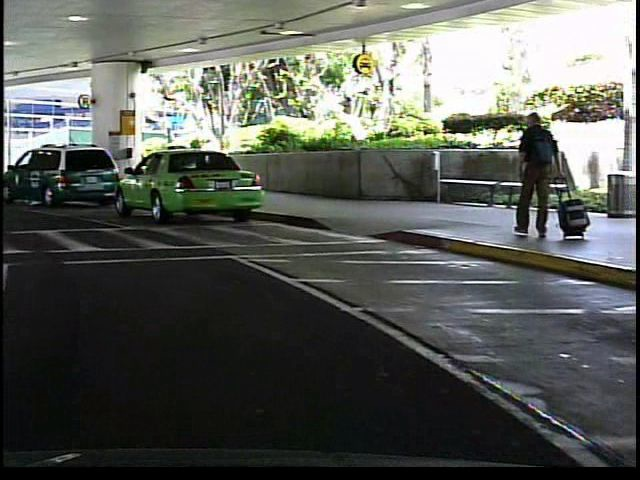person: (503, 107, 566, 246)
